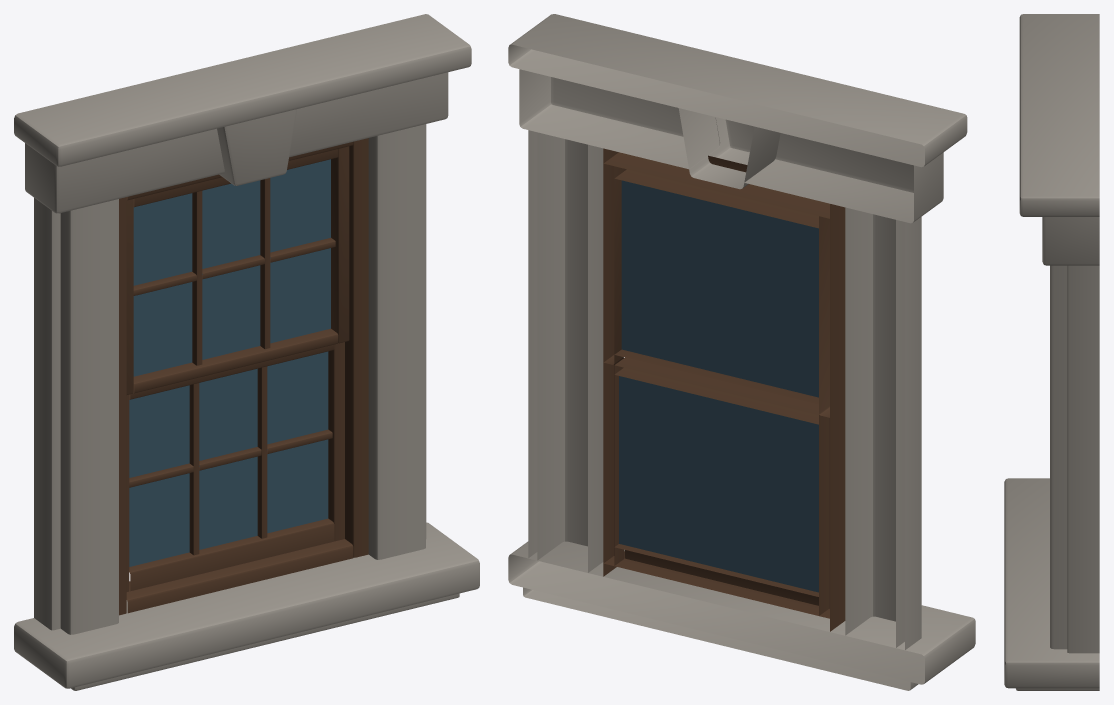
Rendered from SashWindow.fbx.
The picture shows the model from 3 angles, left to right: view 1: azimuth 30°, elevation 25°; view 2: azimuth 150°, elevation 25°; view 3: azimuth 270°, elevation 25°; orthographic projection. The views are drawn at different scales.
Visible parts, largest first — view 1: SashWindow_Stone, SashWindow_Glass, SashWindow_Wood; view 2: SashWindow_Stone, SashWindow_Glass, SashWindow_Wood; view 3: SashWindow_Stone.
Boxes of the visible parts, left/top/right/bottom form: SashWindow_Stone: left=14, top=14, right=479, bottom=690; SashWindow_Glass: left=129, top=159, right=330, bottom=566; SashWindow_Wood: left=119, top=138, right=368, bottom=615; SashWindow_Stone: left=508, top=14, right=975, bottom=690; SashWindow_Glass: left=619, top=180, right=818, bottom=592; SashWindow_Wood: left=603, top=148, right=845, bottom=631; SashWindow_Stone: left=1004, top=14, right=1099, bottom=690.
Bounding box in the file's own units: 4.6 × 5.8 × 1.
